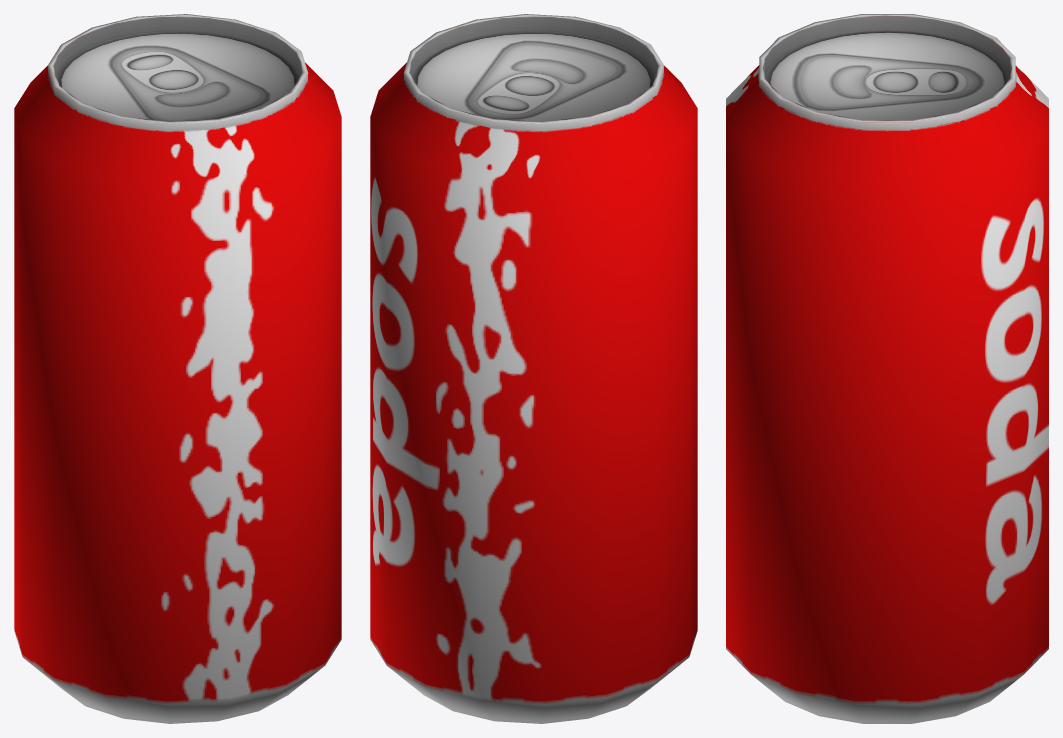
File: sodared_001.glb
The picture shows the model from 3 angles, left to right: view 1: azimuth 30°, elevation 25°; view 2: azimuth 150°, elevation 25°; view 3: azimuth 270°, elevation 25°; orthographic projection.
Visible parts, largest first — view 1: sodared.001; view 2: sodared.001; view 3: sodared.001.
Boxes of the visible parts, <box> form: sodared.001: <box>14,14,341,723</box>; sodared.001: <box>370,14,697,723</box>; sodared.001: <box>726,14,1048,723</box>.
Size of the model in its own units: 0.2196 by 0.4538 by 0.2196.
Materials: 1 (1 with a texture image).
